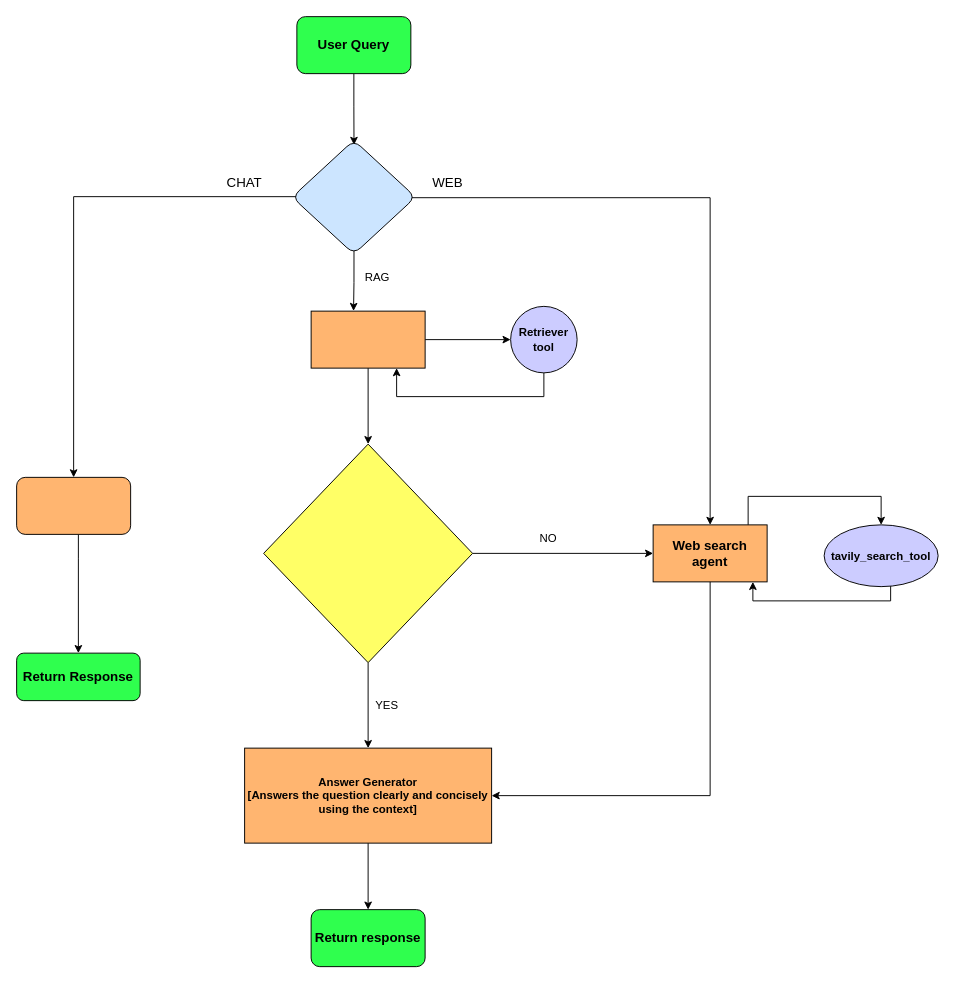
Some shapes in this 955 by 983 pixel diagram are drawn without their labels. Each missing label, with the box of its shape:
Chat Agent: (16, 476, 131, 534)
Grader [Does the context fully answer the question? ]: (263, 443, 473, 663)
Retriever Agent: (310, 310, 425, 368)
Router: (291, 139, 416, 254)
